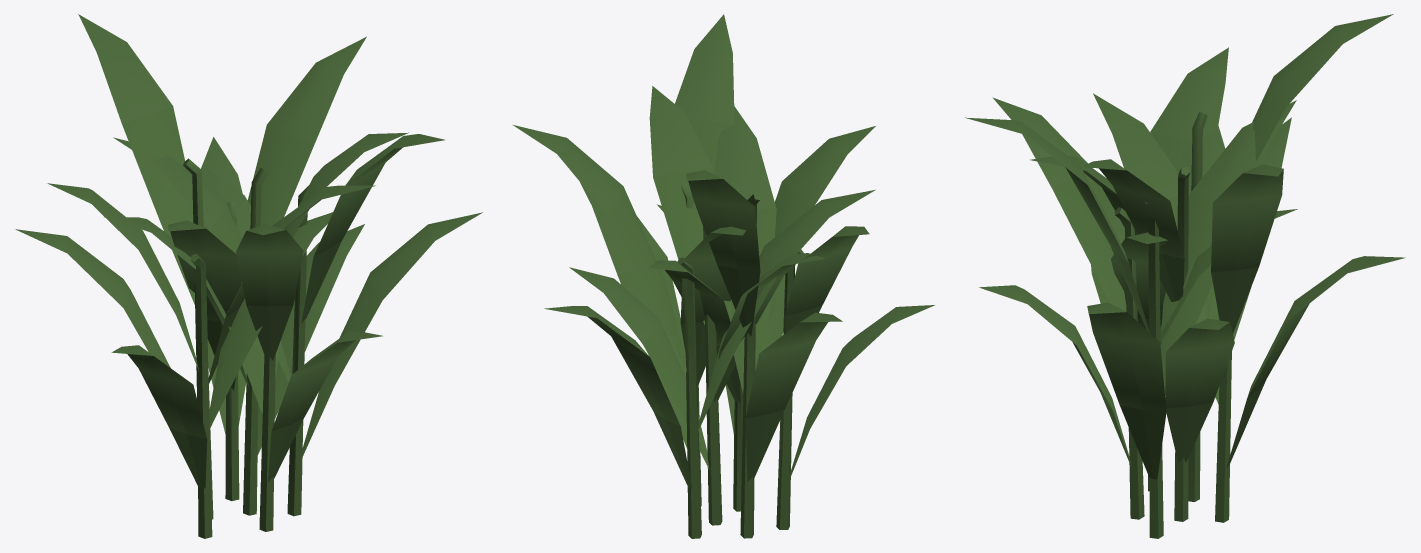
Rendered from crop_wheat_growing.glb.
The picture shows the model from 3 angles, left to right: view 1: azimuth 30°, elevation 25°; view 2: azimuth 150°, elevation 25°; view 3: azimuth 270°, elevation 25°; orthographic projection. The views are drawn at different scales.
Parts seen in each view (by area): view 1: wheat_leaf_0_0; view 2: wheat_leaf_0_0; view 3: wheat_leaf_0_0.
Boxes of the visible parts, x1,y1,x2,y2 form: wheat_leaf_0_0: (15,14,482,538); wheat_leaf_0_0: (513,14,934,538); wheat_leaf_0_0: (965,14,1405,538).
Bounding box in the file's own units: 0.7066 × 0.8002 × 0.6853.
